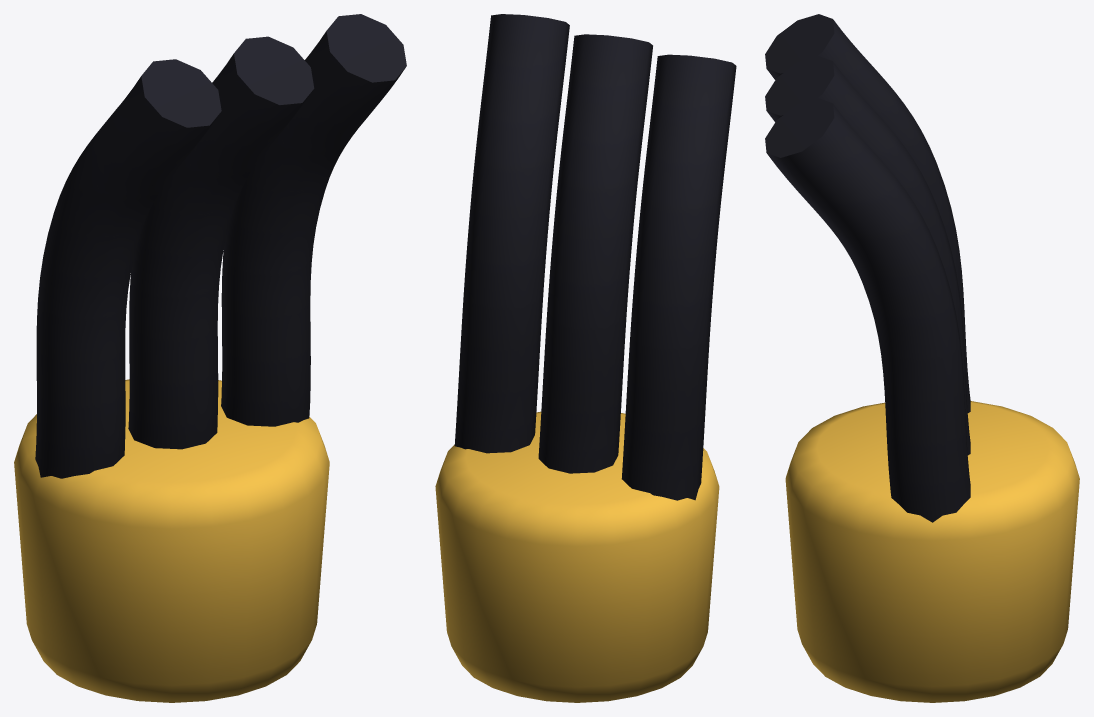
Rendered from garras_obsidiana.glb.
The picture shows the model from 3 angles, left to right: view 1: azimuth 30°, elevation 25°; view 2: azimuth 150°, elevation 25°; view 3: azimuth 270°, elevation 25°; orthographic projection. The views are drawn at different scales.
Parts seen in each view (by area): view 1: garras_obsidiana_fijo; view 2: garras_obsidiana_fijo; view 3: garras_obsidiana_fijo.
Boxes of the visible parts, x1,y1,x2,y2 form: garras_obsidiana_fijo: (14, 14, 406, 702); garras_obsidiana_fijo: (435, 14, 736, 702); garras_obsidiana_fijo: (765, 14, 1079, 702).
Size of the model in its own units: 0.1932 by 0.4034 by 0.1895.
Materials: 1 (1 with a texture image).
